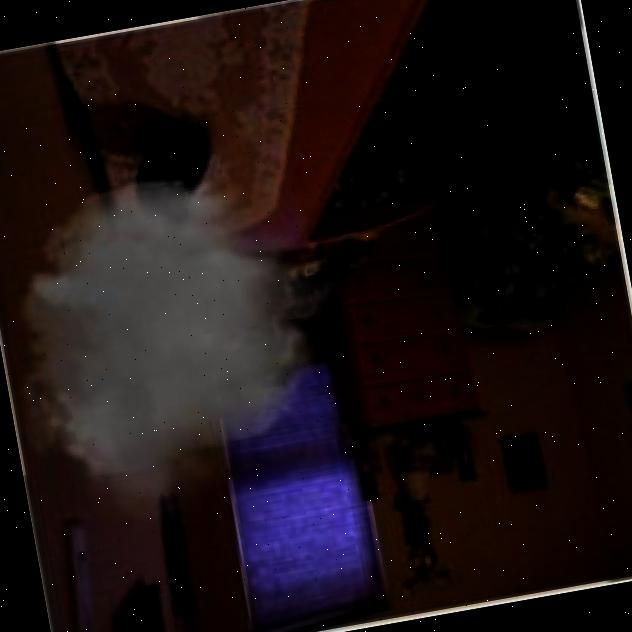smoke: (0, 139, 382, 547)
